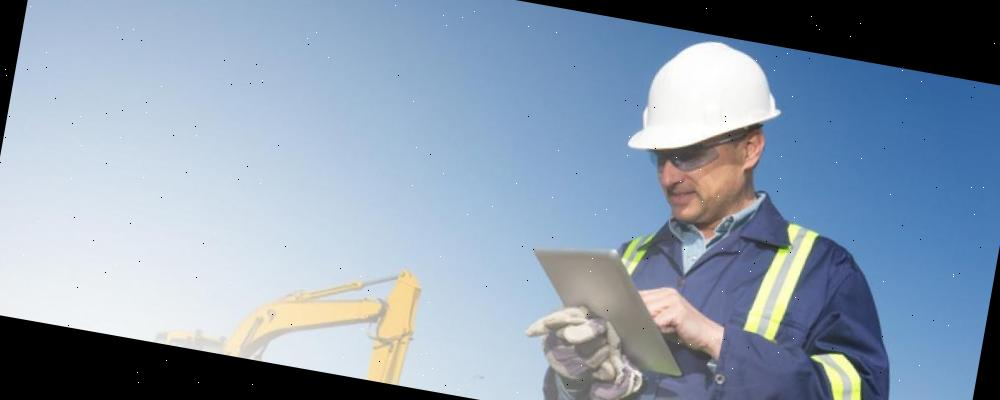helmet: (580, 200, 849, 400), (624, 29, 794, 176)
